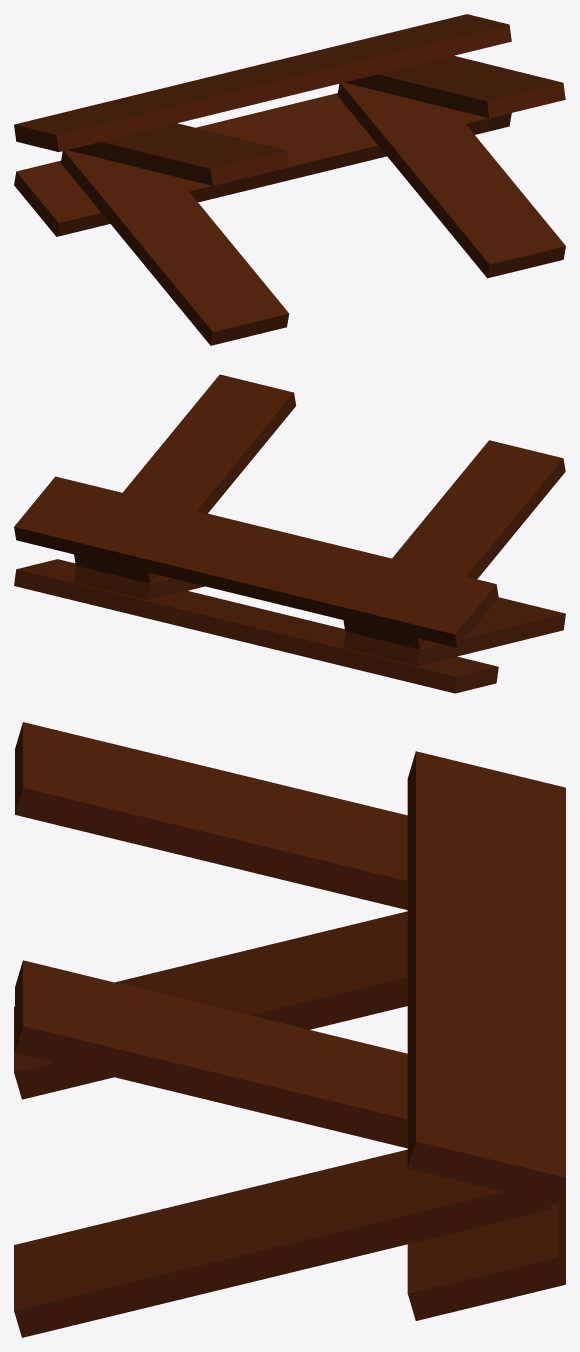
The model's file is sign-road-block.obj.
3 views of the same model, one above another, from view 1: azimuth 30°, elevation 25°; view 2: azimuth 150°, elevation 25°; view 3: azimuth 270°, elevation 25° (orthographic). The views are drawn at different scales.
Visible parts, largest first — view 1: sign-road-block_Plane.190; view 2: sign-road-block_Plane.190; view 3: sign-road-block_Plane.190.
Boxes of the visible parts, x1,y1,x2,y2 form: sign-road-block_Plane.190: (14, 14, 565, 345); sign-road-block_Plane.190: (14, 374, 565, 693); sign-road-block_Plane.190: (14, 722, 565, 1337).
Bounding box in the file's own units: 1.88 × 0.7022 × 1.13.
